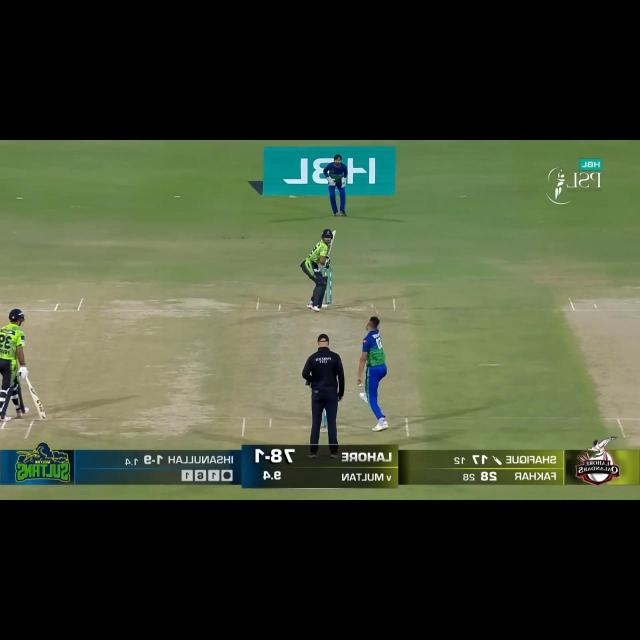bat: (25, 384, 52, 423), (322, 228, 341, 258)
toe: (37, 412, 47, 422), (331, 229, 338, 237)
